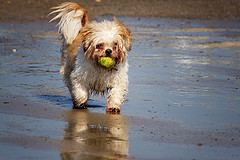tennis ball: (98, 53, 117, 69)
